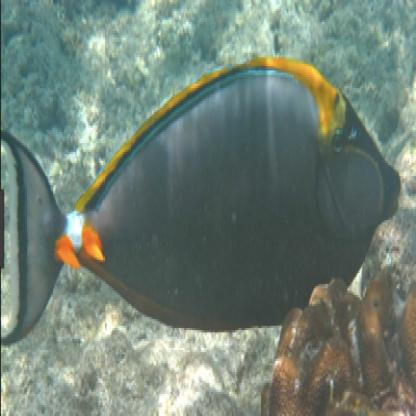surgeon: (2, 54, 402, 349)
